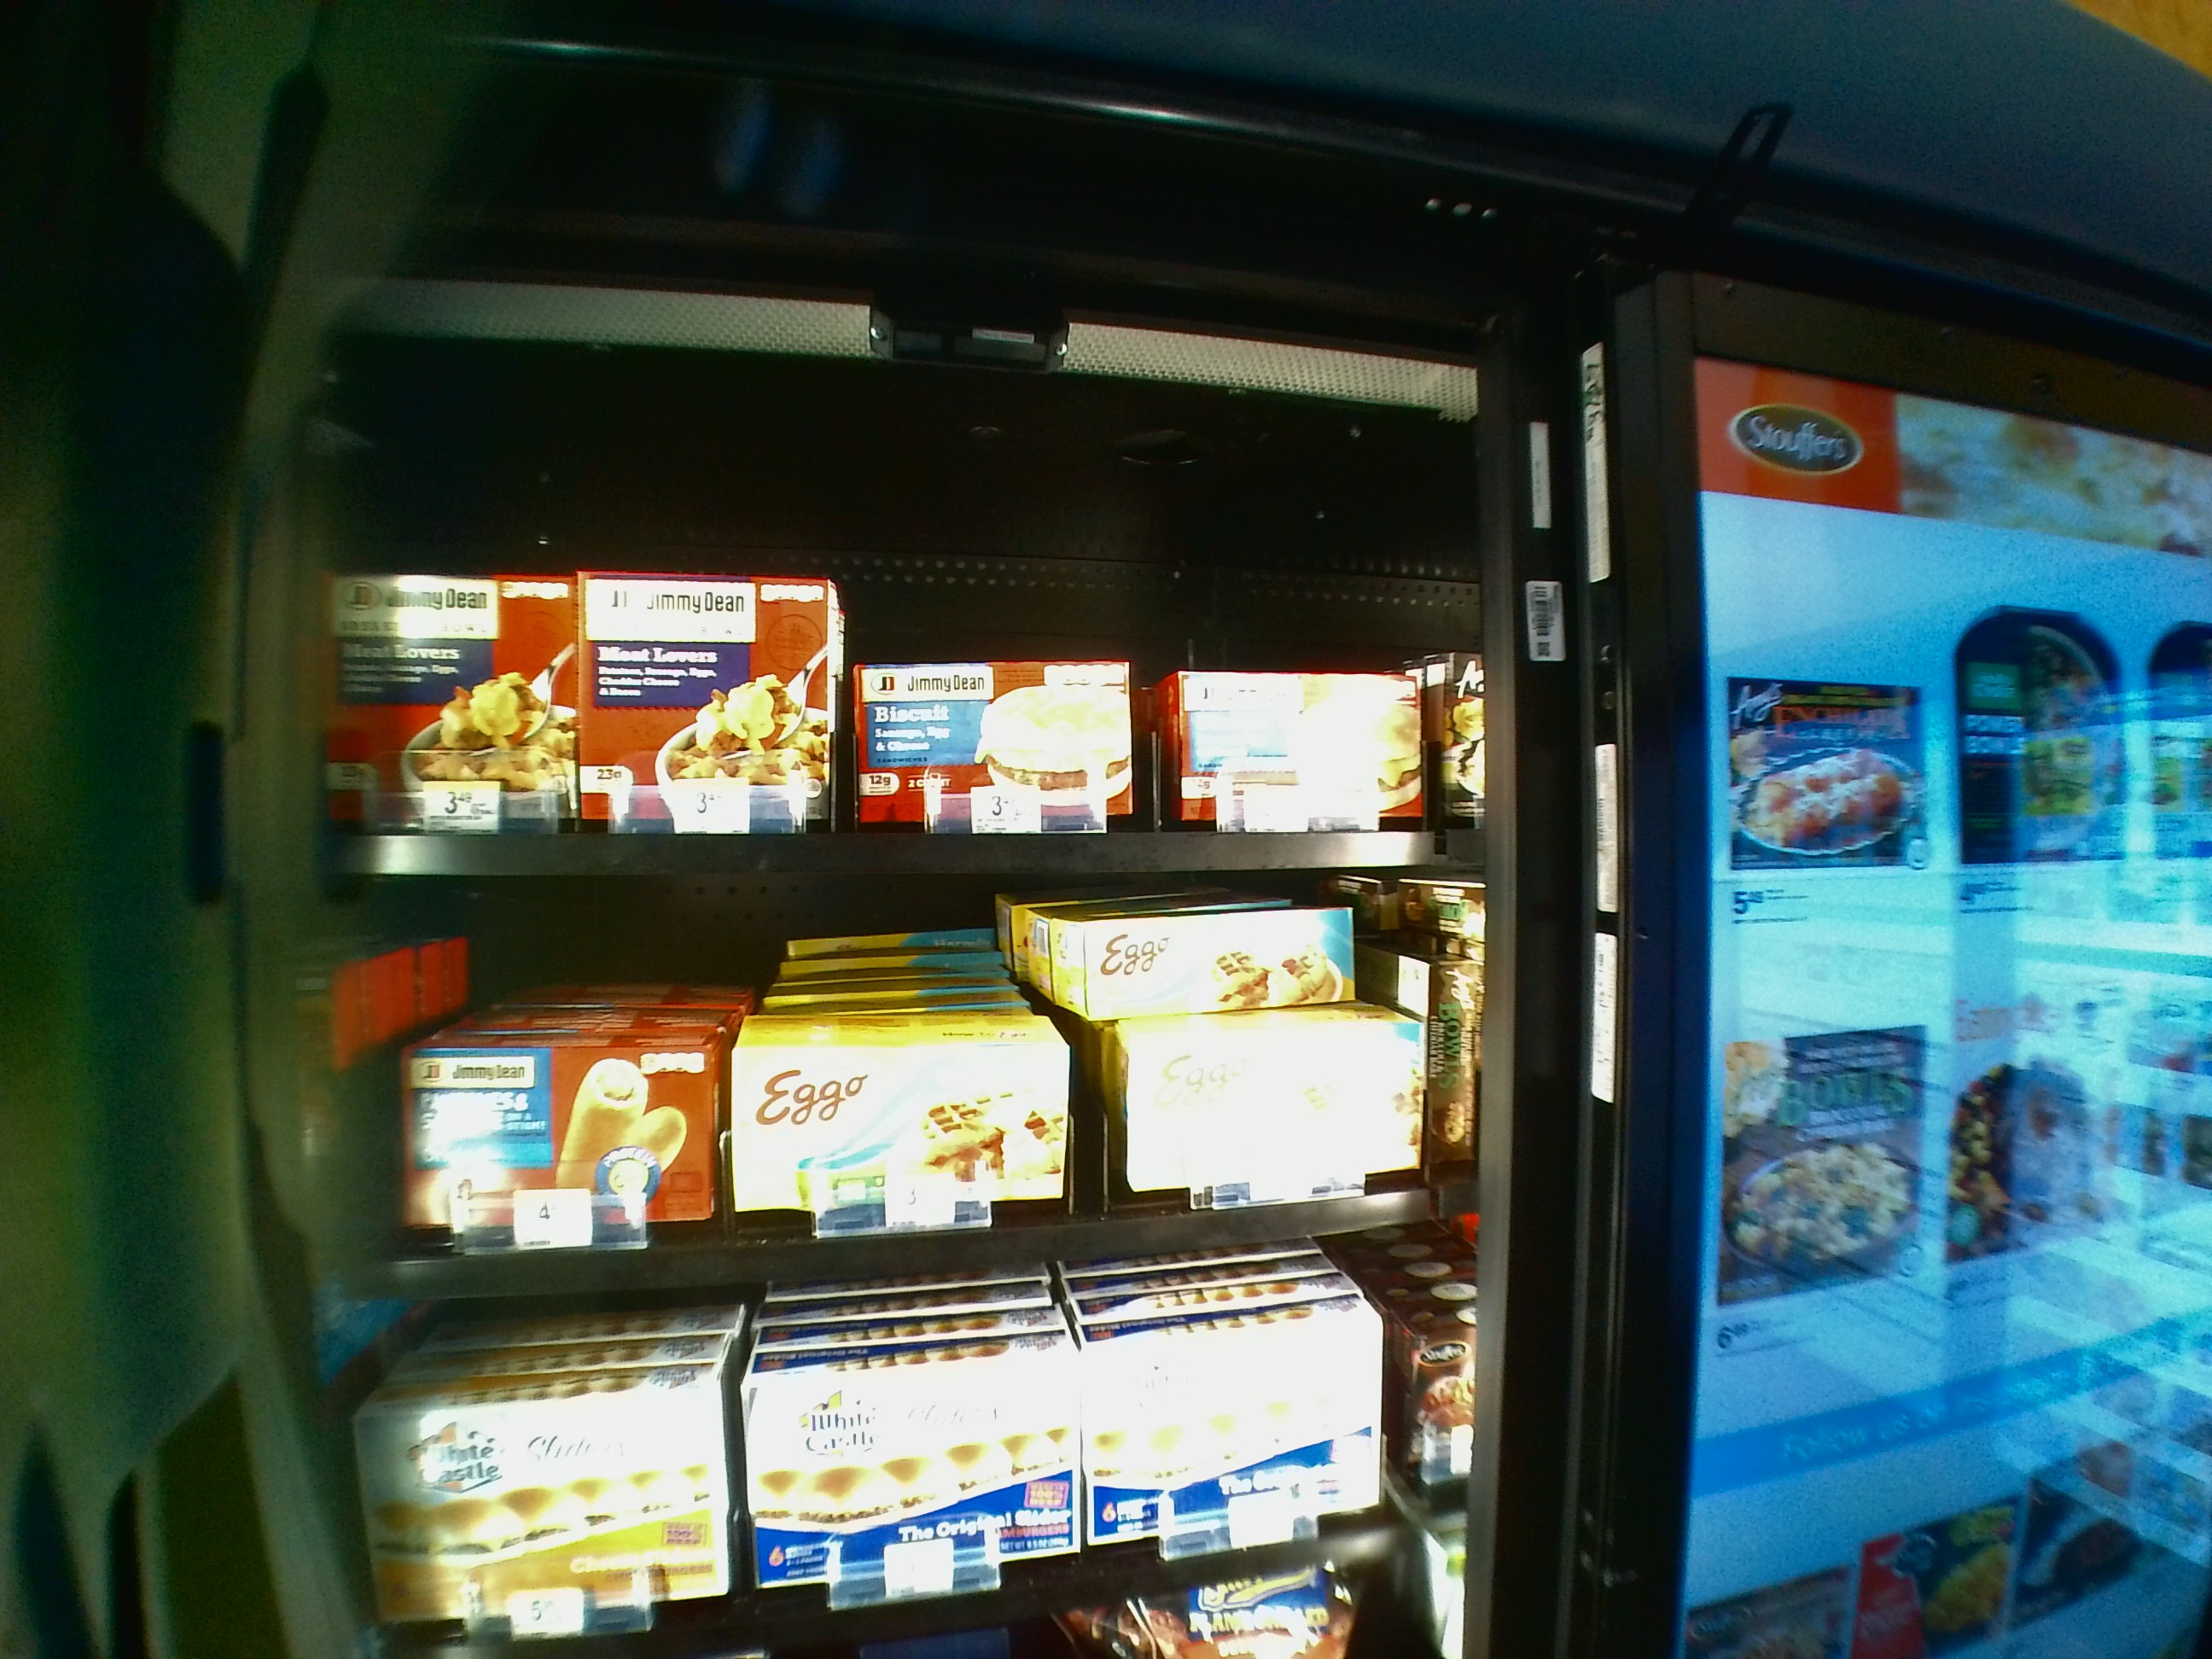shelf: (308, 416, 1470, 878), (307, 897, 1470, 1293)
